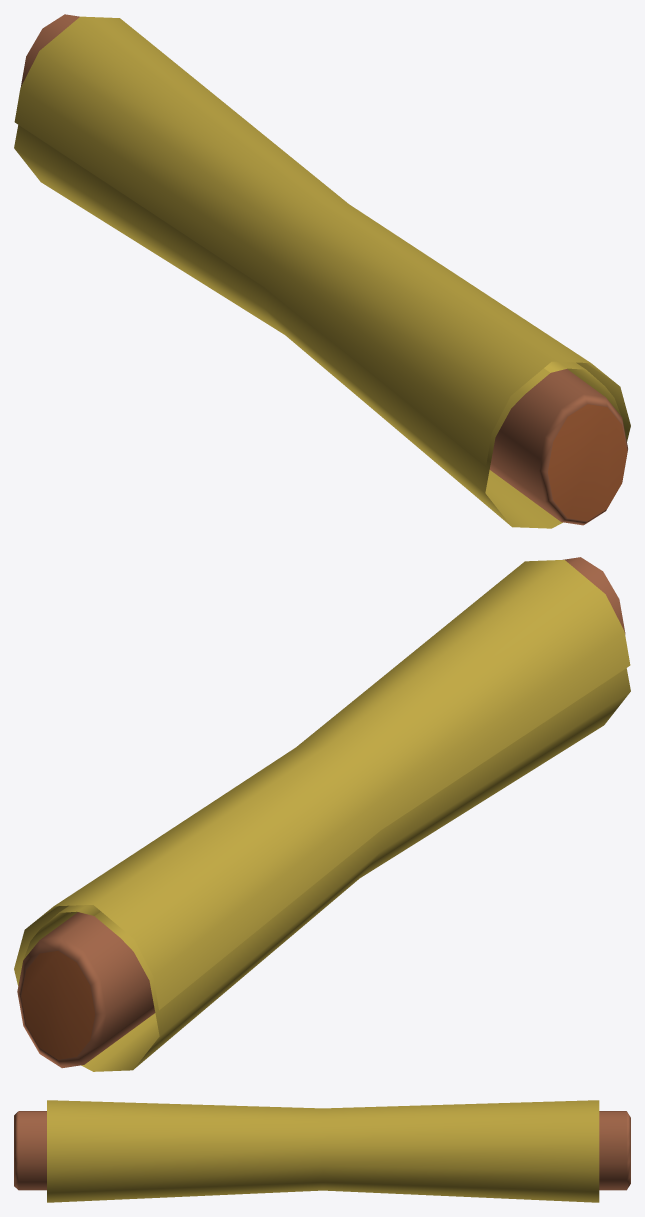
Rendered from pergaminho.fbx.
3 renders of one model, top to bottom at view 1: azimuth 30°, elevation 25°; view 2: azimuth 150°, elevation 25°; view 3: azimuth 270°, elevation 25°, orthographic. The views are drawn at different scales.
Parts seen in each view (by area): view 1: madeira do pergaminho.002; view 2: madeira do pergaminho.002; view 3: madeira do pergaminho.002.
Boxes of the visible parts, x1=… form: madeira do pergaminho.002: x1=14, y1=14, x2=630, y2=528; madeira do pergaminho.002: x1=14, y1=557, x2=630, y2=1071; madeira do pergaminho.002: x1=14, y1=1100, x2=630, y2=1202.
Bounding box in the file's own units: 4.75 × 5.21 × 29.76.
